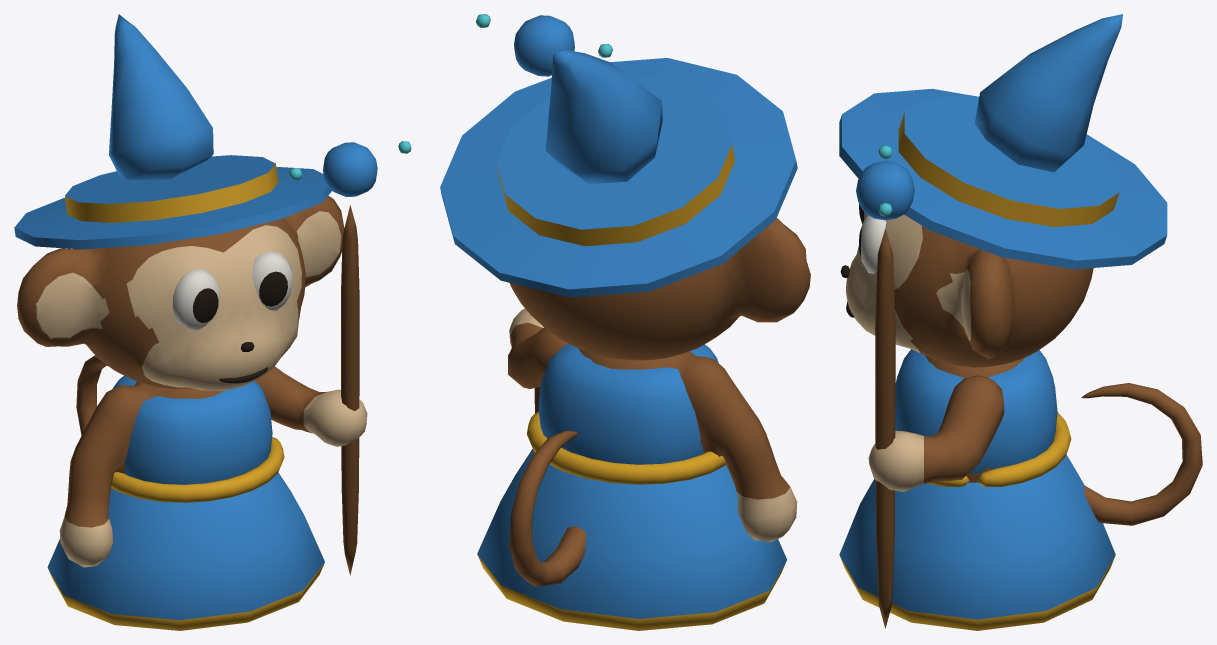
3 views of the same model, side by side, from view 1: azimuth 30°, elevation 25°; view 2: azimuth 150°, elevation 25°; view 3: azimuth 270°, elevation 25° (orthographic). The views are drawn at different scales.
Parts seen in each view (by area): view 1: mago_2_cabeca, mago_0_corpo, mago_3_braco, mago_1_cauda; view 2: mago_2_cabeca, mago_0_corpo, mago_3_braco, mago_1_cauda; view 3: mago_2_cabeca, mago_0_corpo, mago_3_braco, mago_1_cauda.
Part boxes in pixels (x1,y1,x2,y2): mago_2_cabeca: [14, 14, 344, 390]; mago_0_corpo: [47, 375, 324, 630]; mago_3_braco: [255, 141, 411, 575]; mago_1_cauda: [76, 355, 108, 435]; mago_2_cabeca: [440, 49, 810, 360]; mago_0_corpo: [477, 344, 797, 630]; mago_3_braco: [476, 14, 612, 412]; mago_1_cauda: [509, 431, 586, 586]; mago_2_cabeca: [839, 14, 1167, 367]; mago_0_corpo: [839, 349, 1115, 630]; mago_3_braco: [856, 145, 1004, 628]; mago_1_cauda: [1081, 383, 1202, 525].
Bounding box in the file's own units: 0.8374 × 1.24 × 0.7102.
